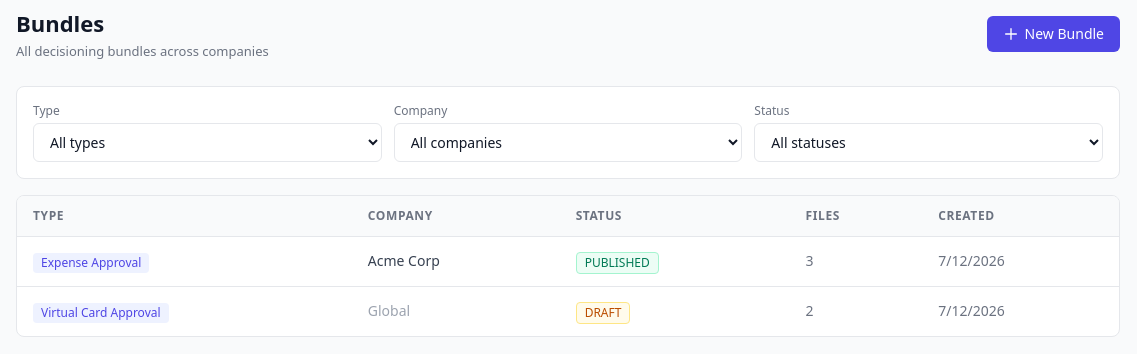
Test case: BundleListPage › filters by bundle type when selected
Check: the text "PUBLISHED" is shown, box [576,252,659,274]
Select "Virtual Card Approval" in the 1st dropdown at (207, 142), box [33,122,382,162]
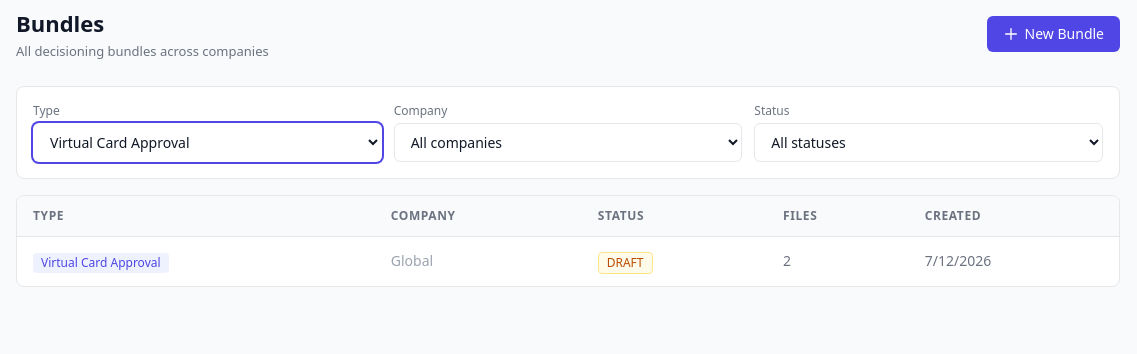
Check: the text "DRAFT" is shown, box [598,252,652,274]
Check: the text "PUBLISHED" is gone
